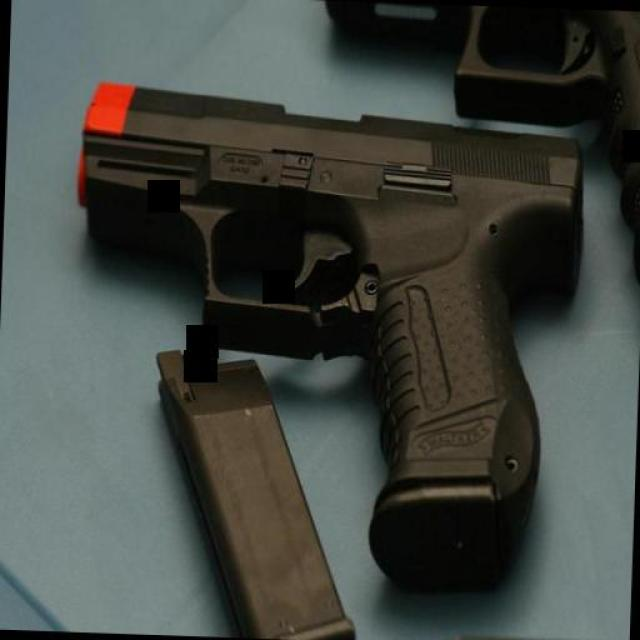gun: (60, 71, 588, 600)
